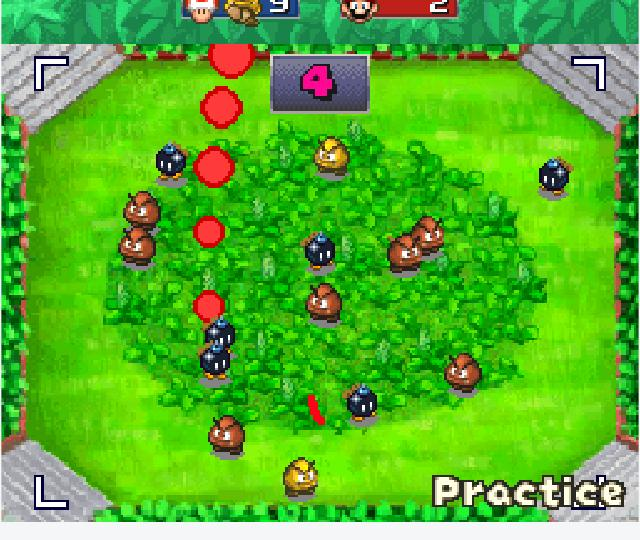bomb: (532, 152, 578, 204), (297, 229, 343, 279), (152, 137, 193, 188), (338, 379, 381, 426), (197, 342, 237, 385), (205, 313, 238, 350)
goomba: (277, 450, 325, 501), (205, 412, 250, 465), (442, 347, 486, 400), (298, 278, 344, 328), (117, 225, 162, 276), (309, 132, 352, 182), (384, 230, 427, 278), (121, 188, 165, 231), (407, 214, 452, 256)
